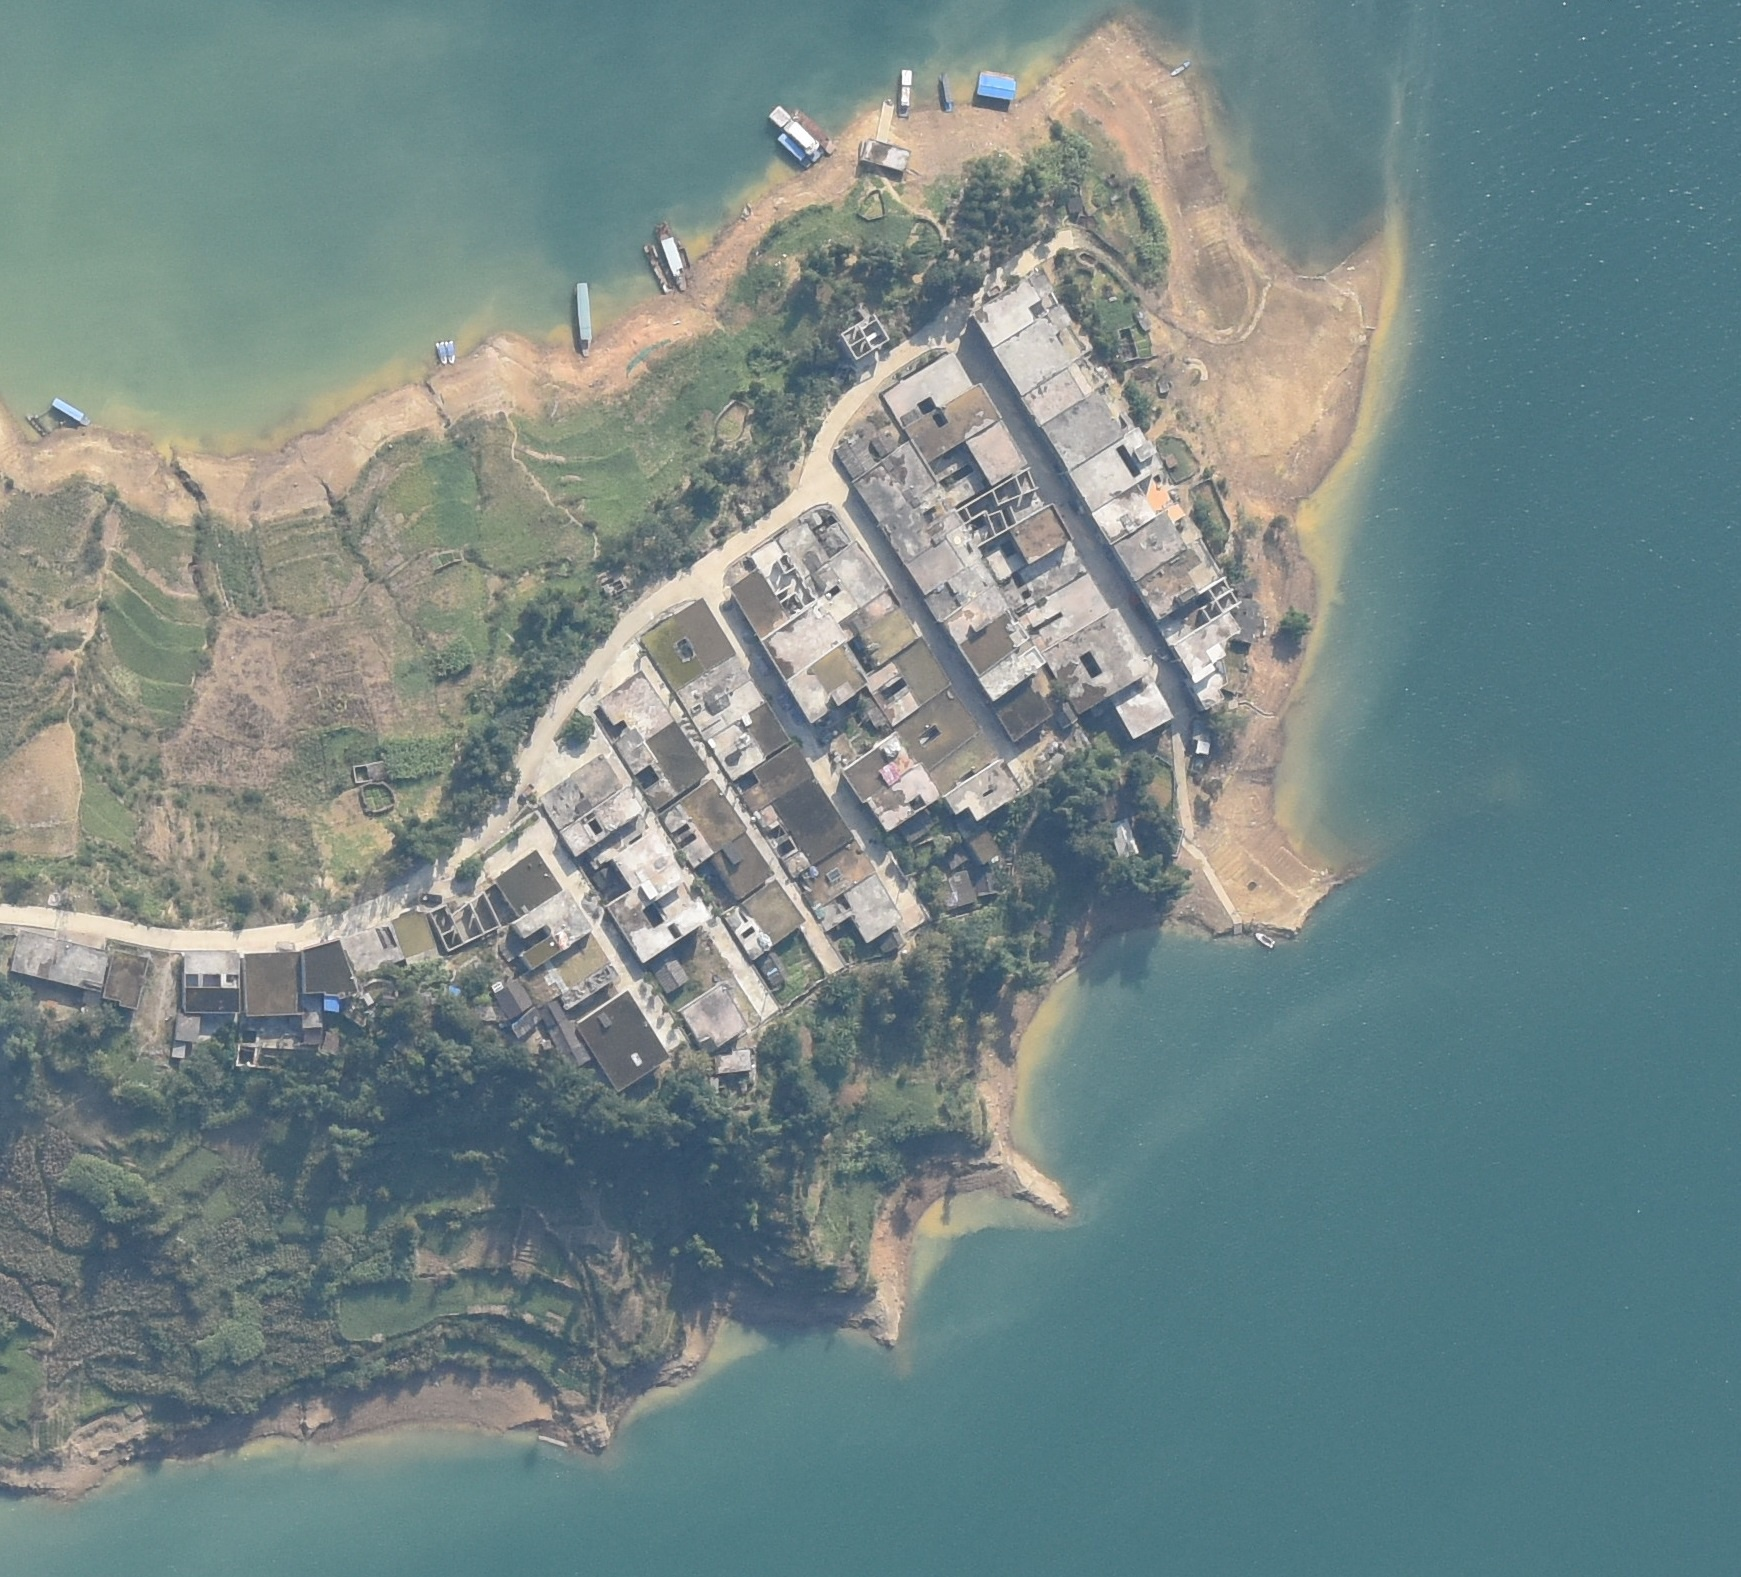building: (1045, 610, 1153, 713), (540, 757, 640, 855), (755, 782, 854, 876), (638, 599, 736, 691), (846, 732, 939, 828), (579, 992, 670, 1089), (999, 306, 1096, 396), (608, 879, 710, 960), (930, 734, 1024, 820), (1157, 579, 1241, 676), (1071, 429, 1165, 513), (657, 776, 742, 866), (904, 384, 998, 462), (616, 723, 705, 805), (866, 637, 946, 728), (980, 505, 1071, 584), (1137, 537, 1222, 620), (678, 657, 761, 738), (1043, 393, 1131, 470), (523, 936, 616, 1008), (854, 443, 937, 523), (975, 267, 1057, 347), (1116, 503, 1200, 582), (895, 688, 980, 766), (883, 355, 974, 426), (723, 879, 804, 960), (1018, 576, 1106, 649), (763, 604, 846, 679), (708, 704, 792, 779), (880, 487, 958, 566), (513, 890, 590, 970), (996, 543, 1084, 613), (811, 541, 886, 620), (789, 646, 866, 720), (11, 933, 108, 992), (1090, 475, 1174, 543), (928, 572, 1004, 646), (820, 876, 902, 943), (1024, 359, 1106, 425), (742, 745, 811, 814), (776, 506, 848, 575), (679, 980, 748, 1049), (801, 842, 874, 907), (852, 594, 916, 667), (958, 613, 1027, 679), (496, 849, 563, 917), (1109, 676, 1174, 738), (965, 420, 1025, 487), (711, 832, 770, 901), (180, 949, 241, 1014), (732, 570, 789, 640), (244, 951, 300, 1017), (1005, 740, 1077, 788), (340, 922, 406, 973), (538, 1002, 588, 1071), (980, 647, 1043, 701), (993, 685, 1052, 741), (302, 940, 361, 993), (908, 541, 965, 593), (494, 980, 540, 1039), (105, 949, 149, 1010), (587, 842, 642, 890), (955, 811, 999, 866), (842, 314, 889, 362), (858, 136, 911, 174), (648, 952, 687, 993), (1190, 669, 1227, 713), (170, 1013, 202, 1058), (937, 870, 974, 908), (1109, 819, 1140, 860), (834, 441, 866, 478), (300, 995, 323, 1043), (1234, 597, 1257, 644), (713, 1052, 754, 1074), (352, 760, 387, 784), (1190, 717, 1212, 754), (599, 696, 623, 726), (974, 867, 999, 895), (870, 431, 896, 456), (1137, 309, 1154, 332)
prefabricated-house: (975, 73, 1018, 100), (323, 995, 343, 1011)
ship: (769, 105, 823, 162), (789, 105, 837, 153), (657, 221, 687, 290), (575, 281, 594, 356), (778, 132, 813, 168), (50, 397, 93, 425), (939, 71, 955, 112), (899, 68, 913, 117), (1171, 58, 1194, 77), (1256, 930, 1275, 949), (434, 341, 447, 362), (444, 340, 456, 362)
well: (45, 892, 62, 907)
